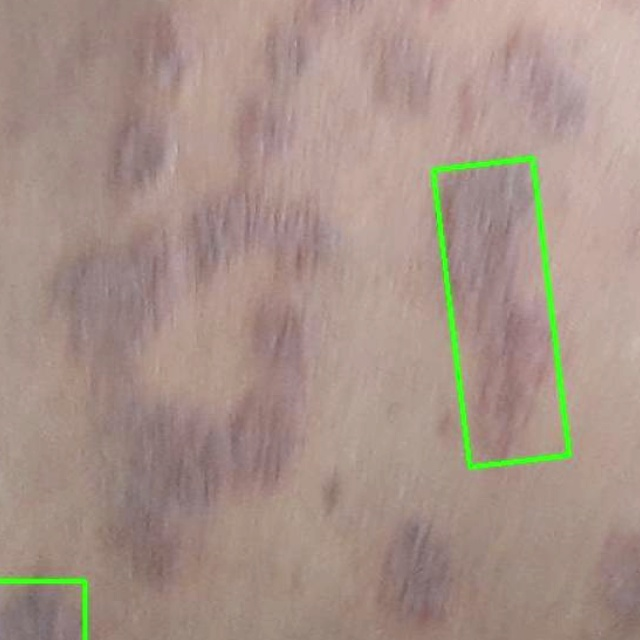Tinea Corporis: (434, 157, 570, 466)
